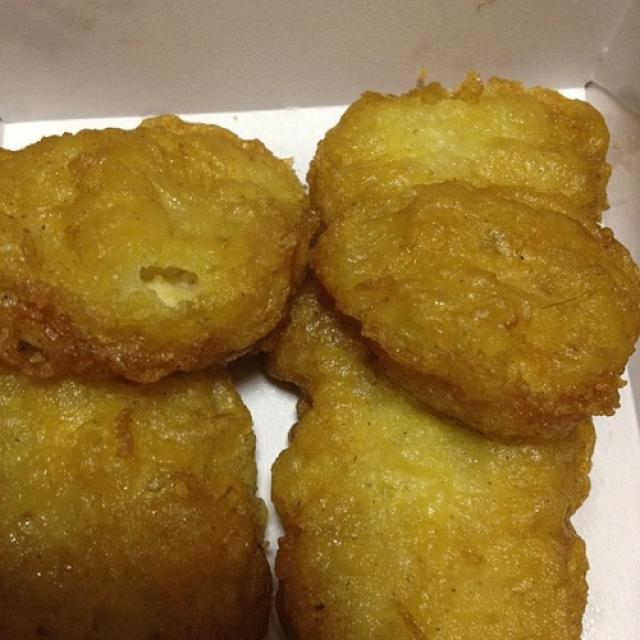Chicken nugget: (4, 70, 640, 640)
